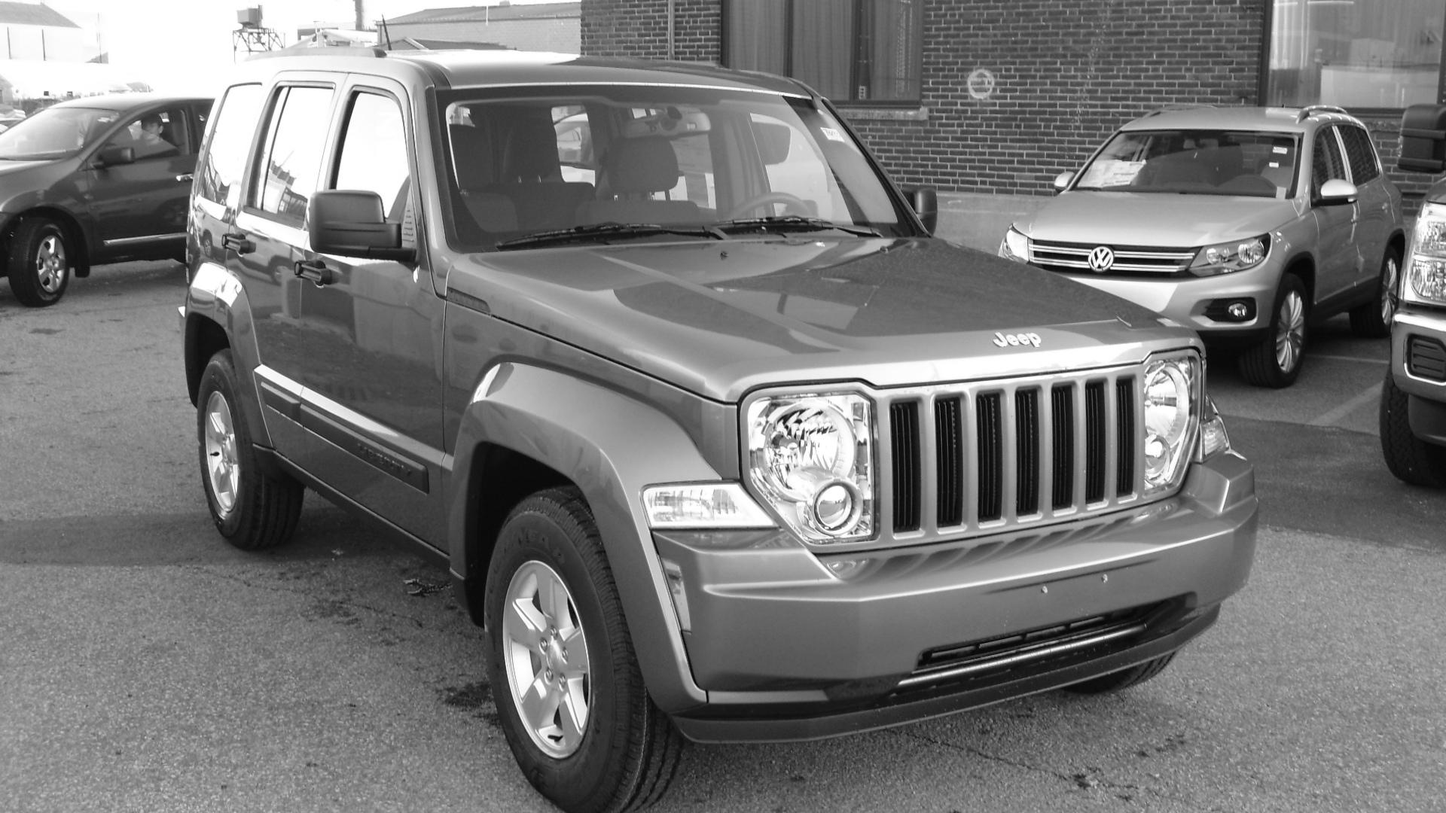car: (178, 27, 1265, 811)
